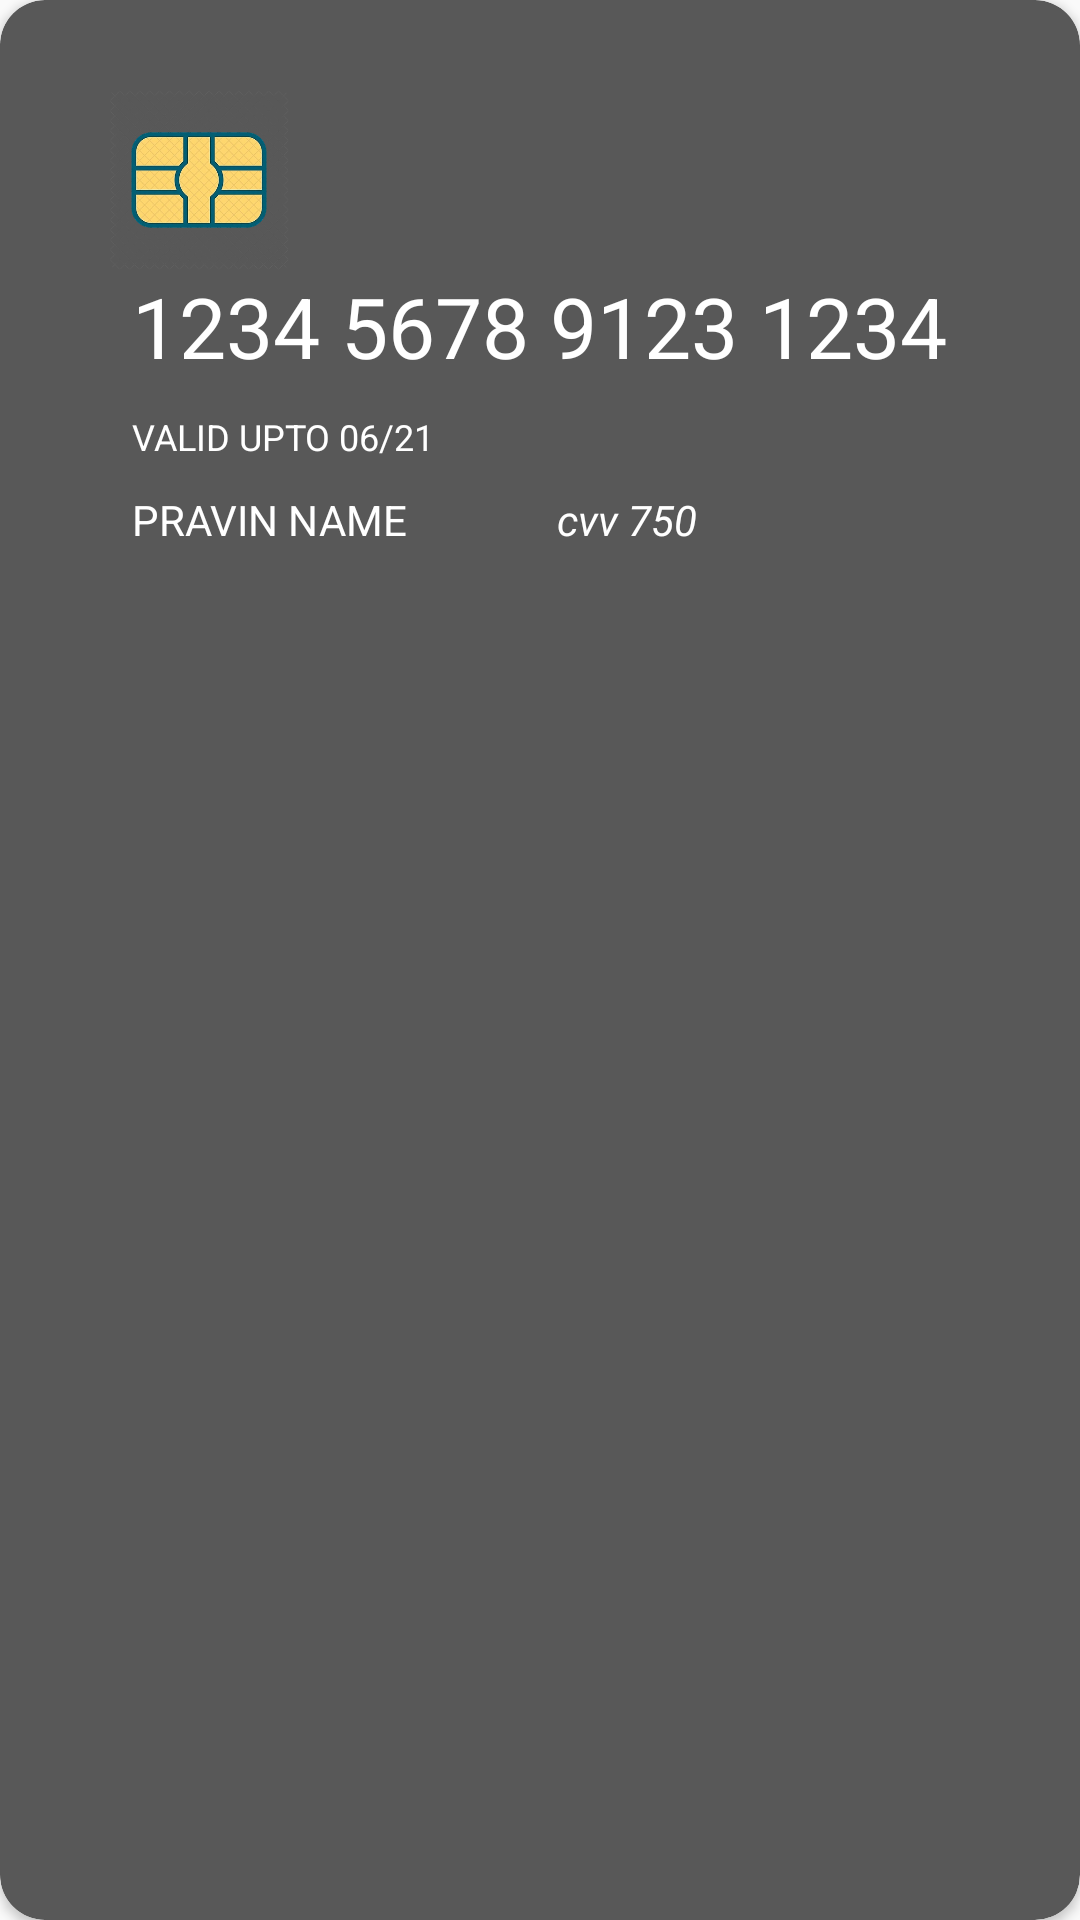

Locate icon controls on the screen. Image size 1080 x 1920, boxes as (x1, y1, x2, y2).
chip: (131, 132, 267, 228)
